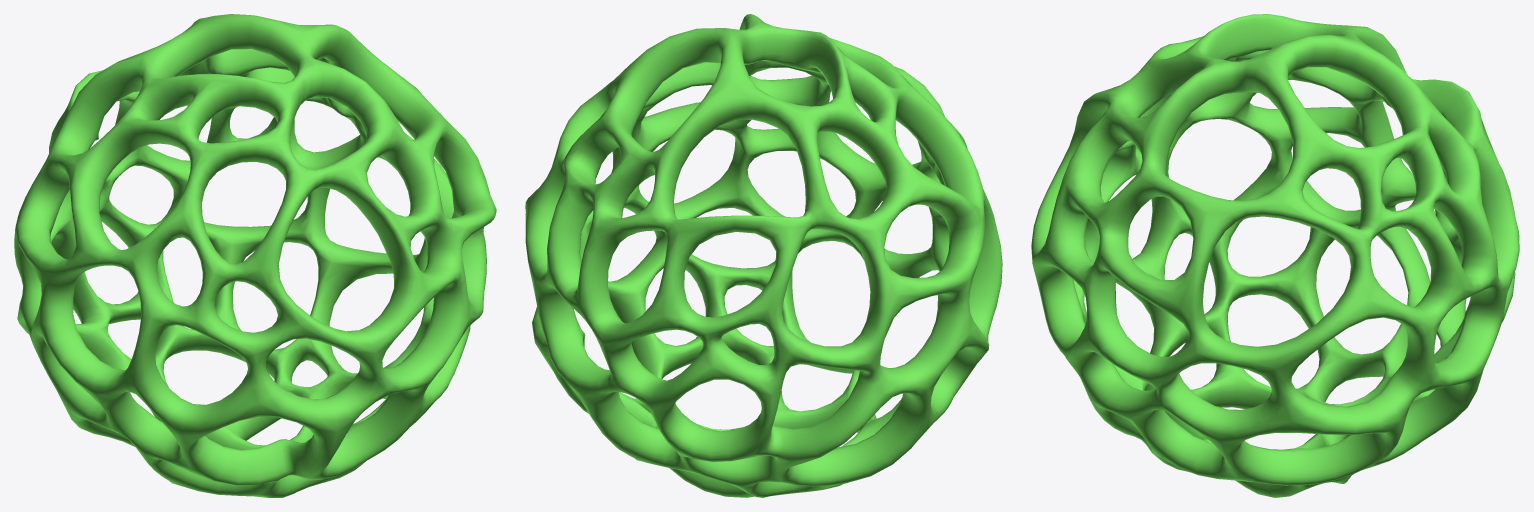
File: Abstract1.fbx
3 views of the same model, side by side, from view 1: azimuth 30°, elevation 25°; view 2: azimuth 150°, elevation 25°; view 3: azimuth 270°, elevation 25° (orthographic).
Parts seen in each view (by area): view 1: VoronoiDyno.Bake; view 2: VoronoiDyno.Bake; view 3: VoronoiDyno.Bake.
Boxes of the visible parts, <box> form: VoronoiDyno.Bake: <box>14,14,496,497</box>; VoronoiDyno.Bake: <box>525,14,1002,497</box>; VoronoiDyno.Bake: <box>1031,14,1519,497</box>.
Bounding box in the file's own units: 187 × 189 × 185.
